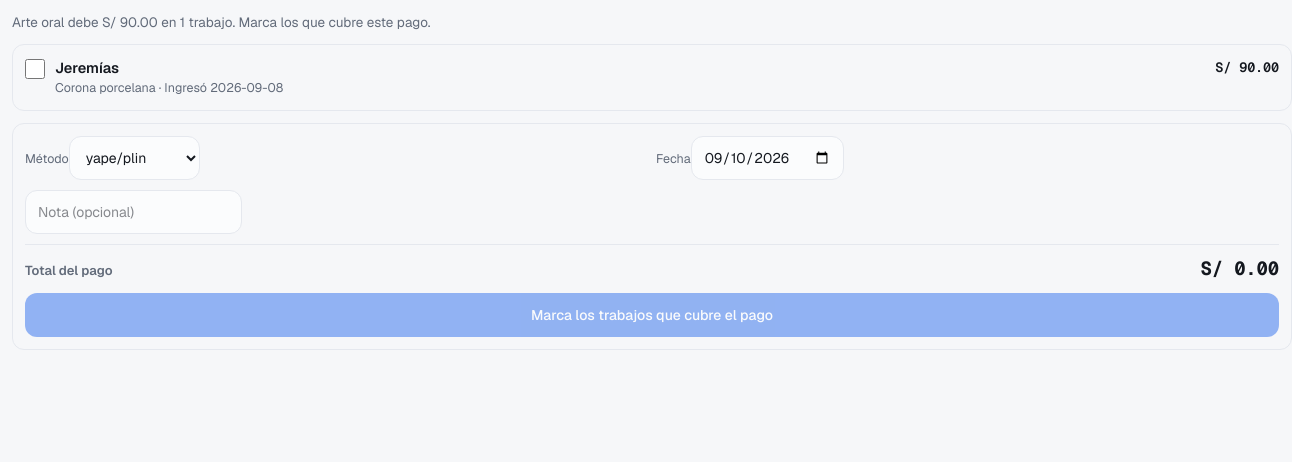
Scenario: FormularioDeCobro › no deja cobrar más de lo que el trabajo debe
The image size is (1292, 462).
Step 1. Click the checkbox → [35, 69], box [25,59,45,79]
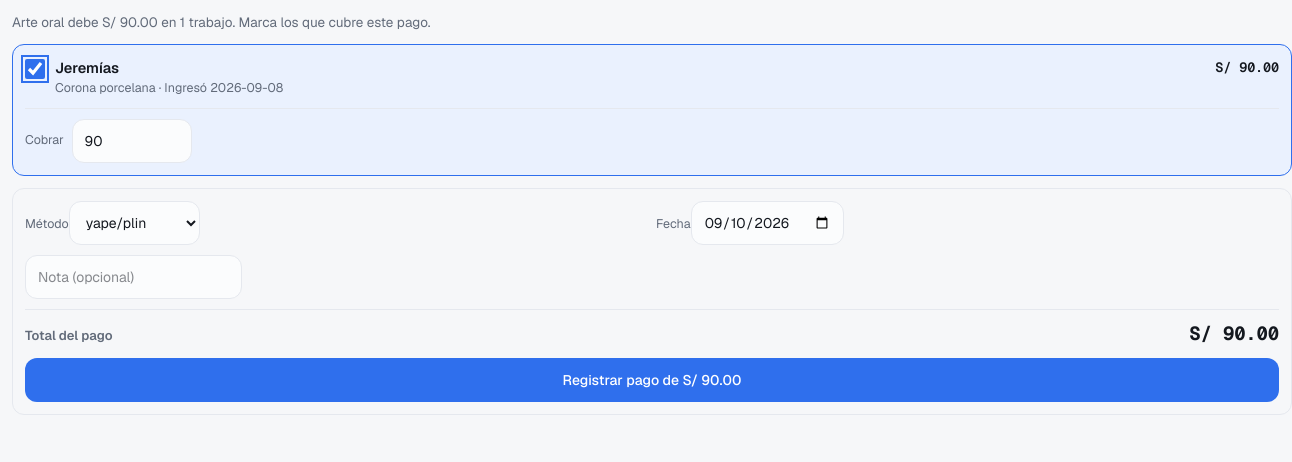
Step 2. Replace the text in the number field named "importe para jeremías" with "500" → [132, 141], box [72,119,192,163]
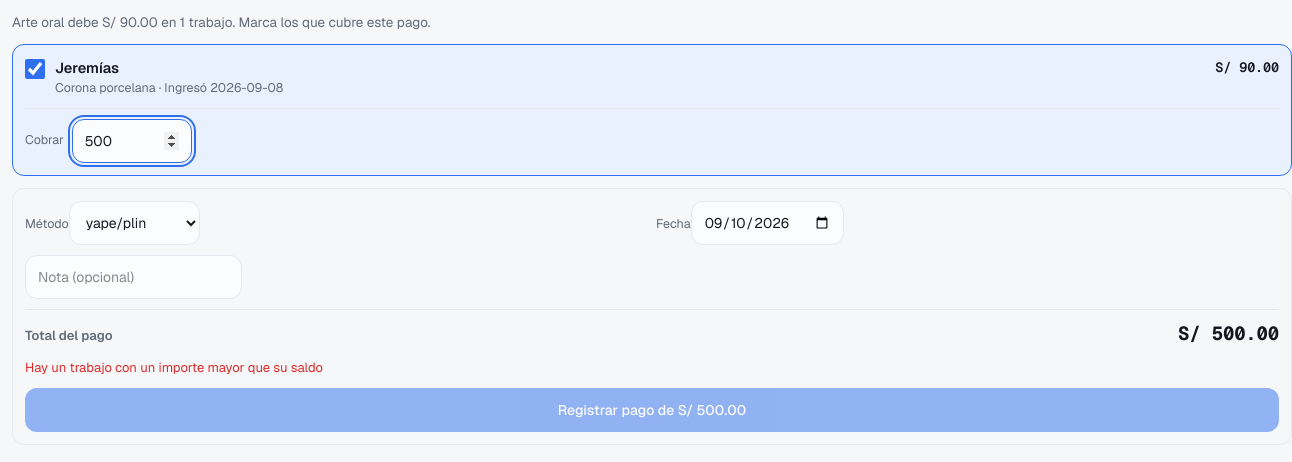
Check: the button "Registrar pago de S/ 500.00" is disabled, box [25,388,1279,432]
Check: the text "Hay un trabajo con un importe mayor que su saldo" is shown, box [25,359,323,376]
